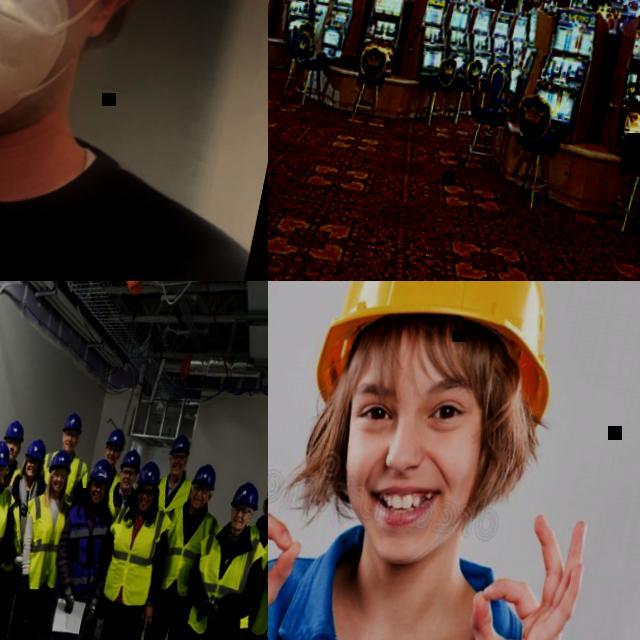helmet: (307, 281, 585, 437), (231, 481, 264, 513), (191, 464, 219, 492), (136, 461, 164, 488), (88, 458, 115, 485), (49, 449, 75, 477), (24, 438, 50, 464), (120, 448, 144, 475), (4, 419, 28, 444), (62, 412, 86, 436), (170, 434, 193, 459), (106, 428, 128, 451), (0, 439, 13, 468)
vest: (183, 519, 268, 640), (96, 498, 176, 612), (148, 499, 228, 604), (11, 491, 72, 596), (52, 500, 115, 598), (36, 447, 92, 508), (0, 481, 36, 574), (153, 474, 196, 520), (0, 479, 19, 583), (77, 464, 121, 504), (240, 523, 268, 576), (104, 482, 138, 524), (1, 466, 21, 490)
